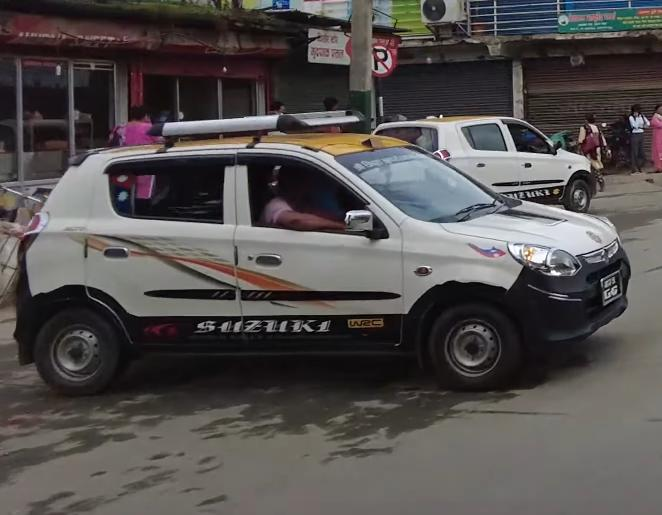taxi: (6, 109, 637, 405), (370, 115, 605, 216)
